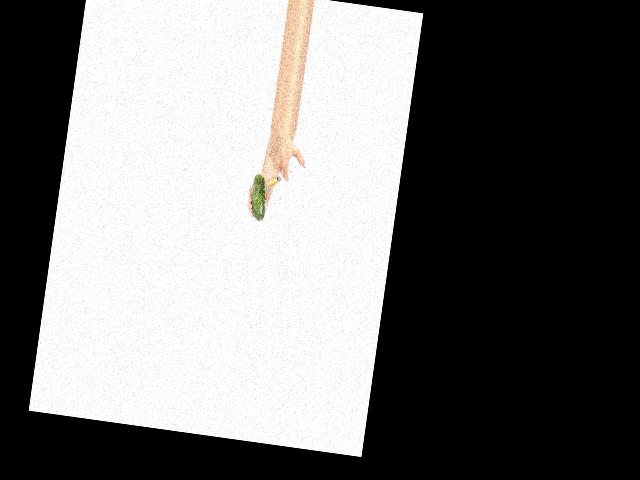cucumber: (248, 174, 269, 222)
